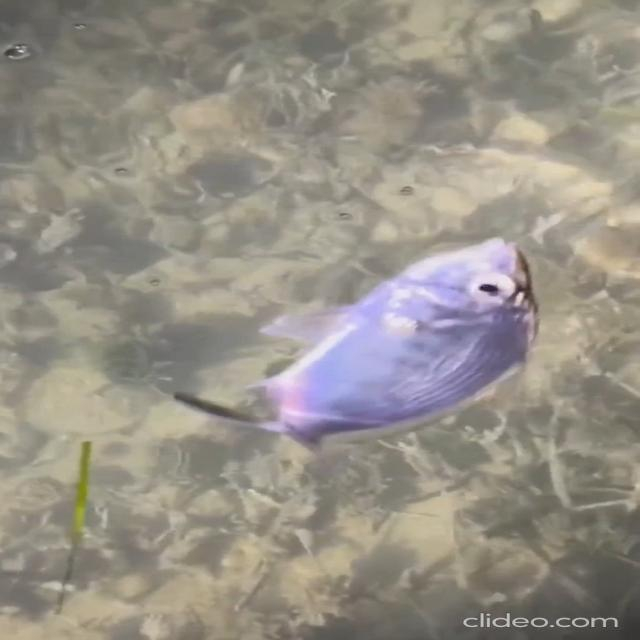fish: (161, 233, 588, 467)
